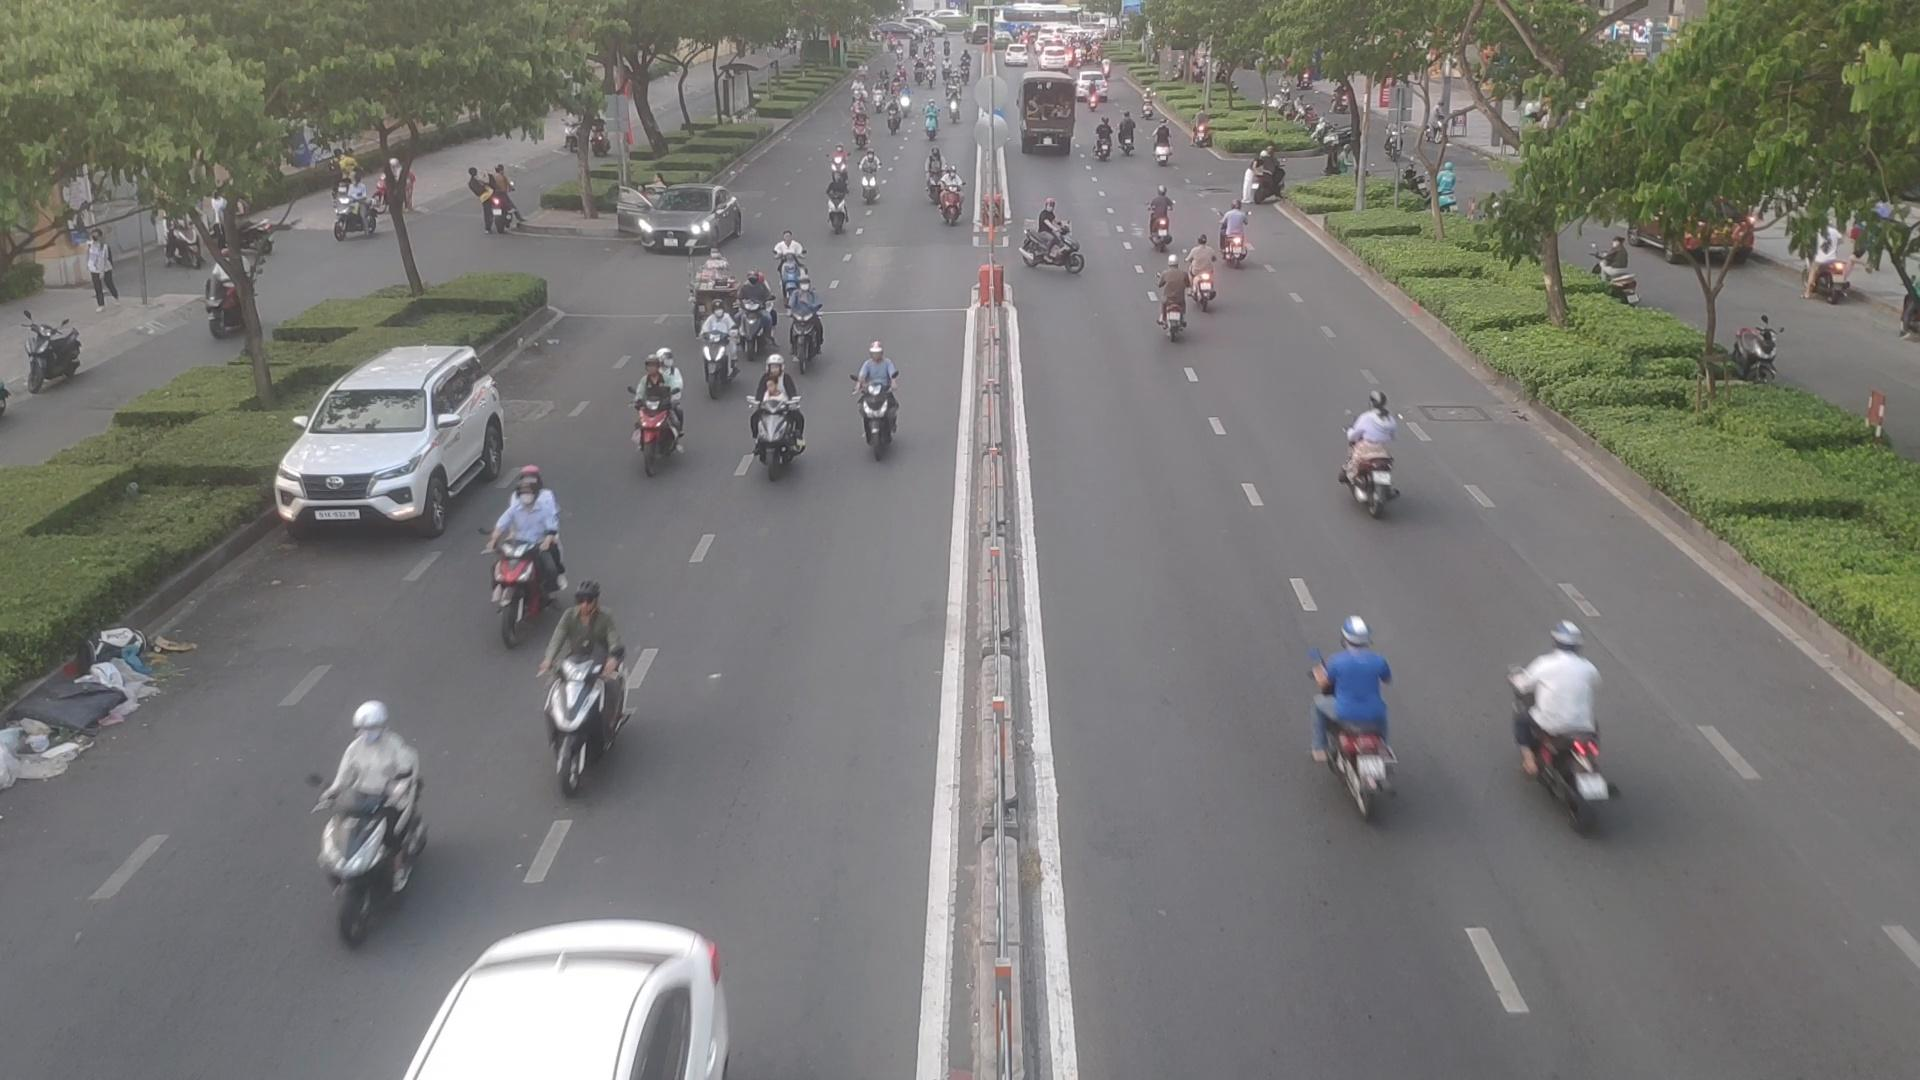car: (436, 916, 727, 1080), (272, 345, 512, 535), (620, 189, 744, 258)
motorbike: (313, 700, 434, 913), (1302, 613, 1408, 811), (1519, 620, 1614, 823), (547, 585, 630, 781), (491, 460, 567, 632), (624, 347, 684, 469), (1344, 386, 1396, 512), (753, 351, 803, 473), (860, 339, 906, 465), (1019, 196, 1079, 289), (700, 295, 740, 396), (783, 270, 824, 367), (1154, 247, 1187, 353), (1184, 223, 1216, 314), (1215, 189, 1249, 272), (741, 273, 770, 351), (1250, 152, 1284, 206), (825, 166, 851, 239), (939, 161, 967, 222), (856, 144, 880, 214), (1150, 185, 1170, 253), (1154, 120, 1178, 175), (1095, 111, 1114, 164)
